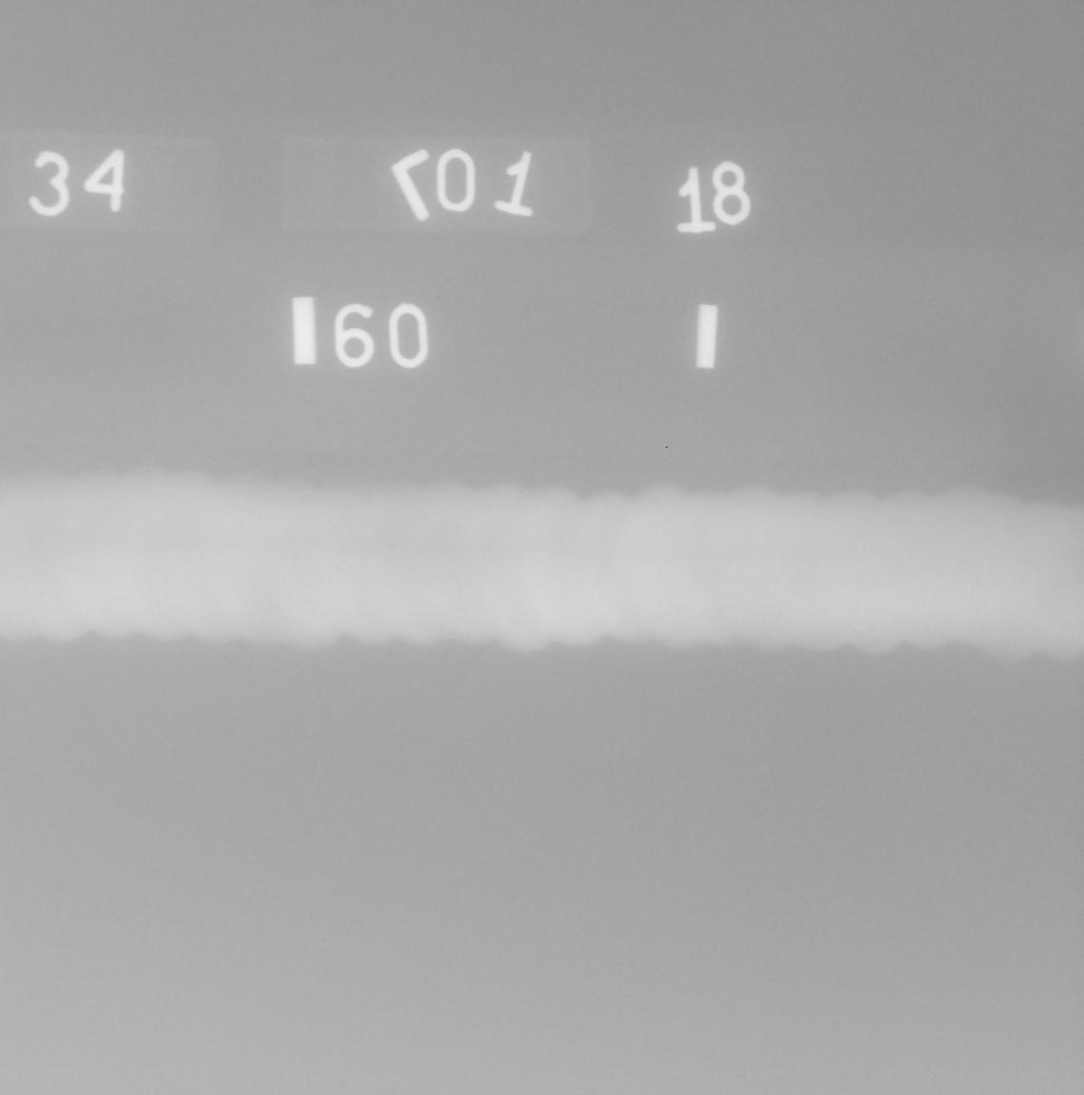Pore/Porosity: (290, 554, 298, 562), (912, 551, 917, 555)
